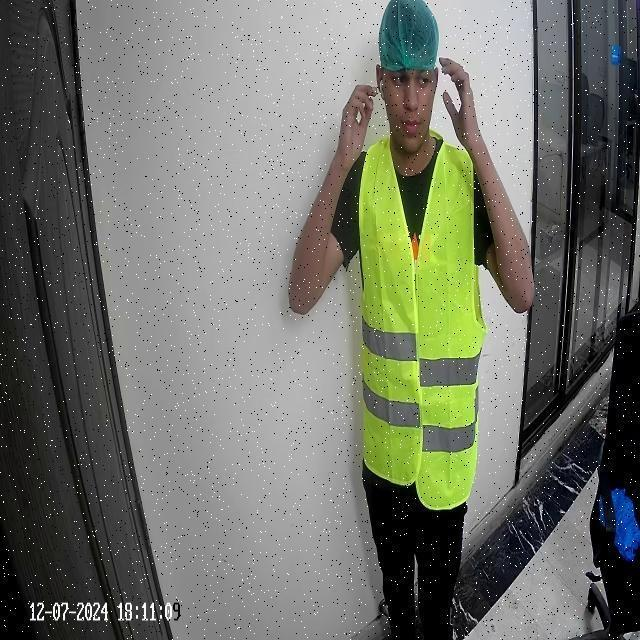gloves: (378, 0, 438, 76)
no_apron: (328, 78, 382, 156), (437, 54, 474, 128)
no_hairnet: (390, 92, 428, 151)
